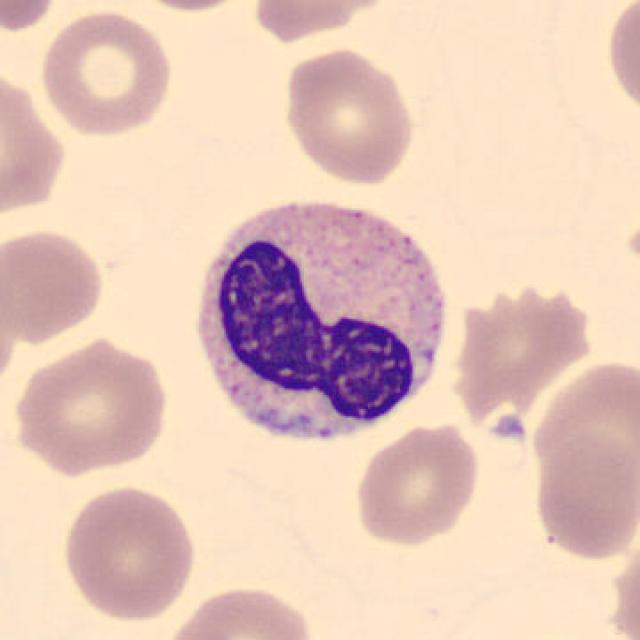neutrophil: (190, 194, 450, 440)
rbc: (18, 348, 166, 465), (549, 364, 640, 550), (464, 301, 590, 418), (45, 17, 175, 128), (288, 53, 409, 172), (65, 493, 186, 606), (367, 432, 482, 544), (0, 238, 96, 341), (0, 77, 68, 213), (161, 584, 309, 640), (608, 0, 640, 117), (254, 0, 367, 33), (0, 0, 62, 36), (618, 561, 640, 640), (159, 0, 229, 13)
